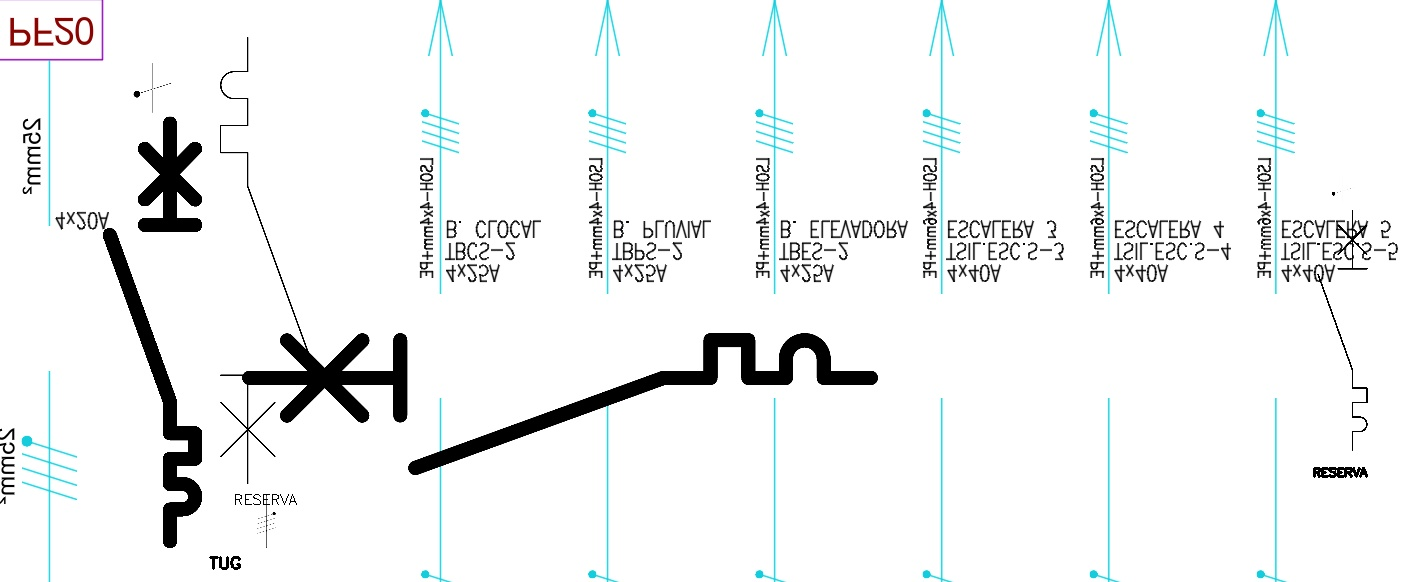interruptor_termomagnetico: (233, 324, 887, 484), (209, 26, 323, 495), (99, 112, 206, 552), (1312, 204, 1373, 455)
